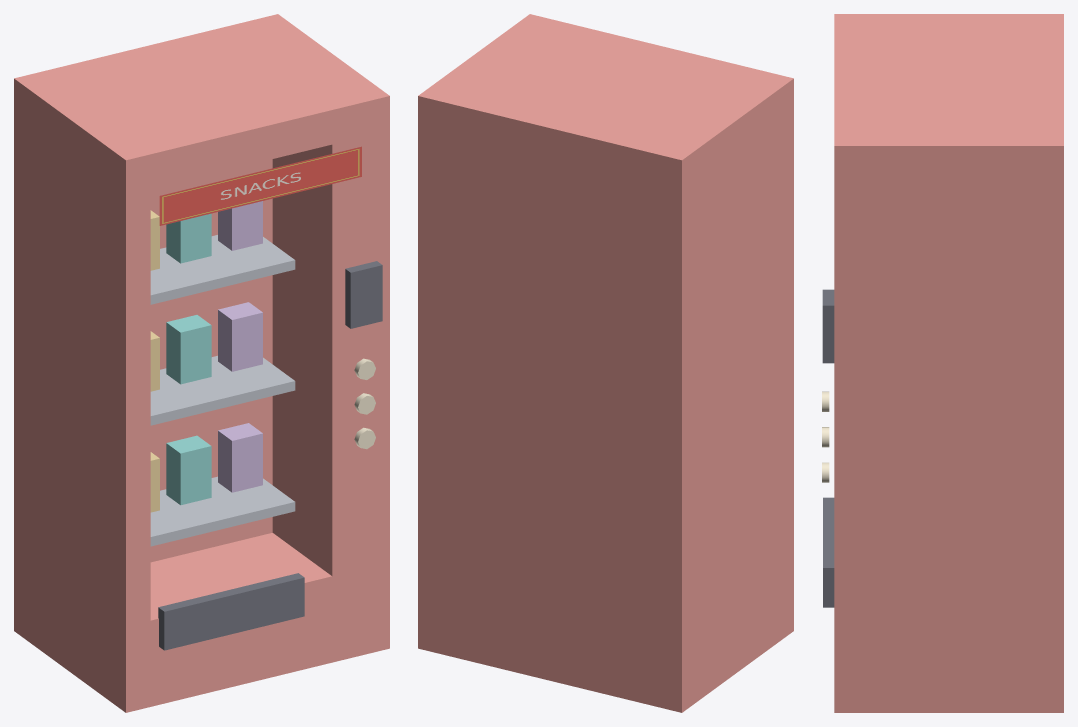
File: 07_maquina_snacks.glb
3 renders of one model, left to right at view 1: azimuth 30°, elevation 25°; view 2: azimuth 150°, elevation 25°; view 3: azimuth 270°, elevation 25°, orthographic. The views are drawn at different scales.
Visible parts, largest first — view 1: body (×8); view 2: body; view 3: body (×3).
Part boxes in pixels (x1=…): body (×8): x1=14, y1=14, x2=389, y2=712; body: x1=418, y1=14, x2=793, y2=712; body (×3): x1=822, y1=14, x2=1063, y2=712.
Size of the model in its own units: 0.64 by 1.28 by 0.495.
Materials: 8 (1 with a texture image).
